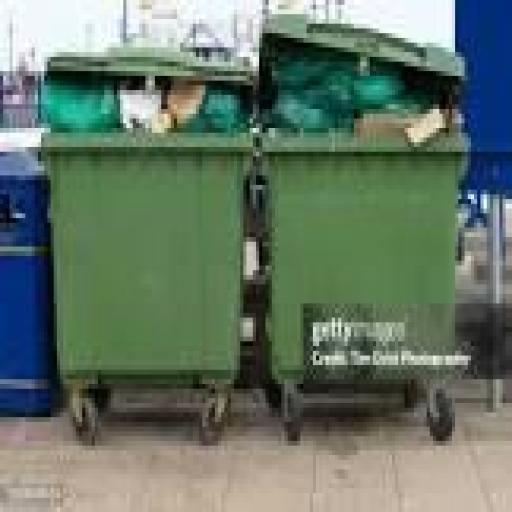poubelle_pleine: (6, 23, 264, 452), (267, 21, 465, 450)
